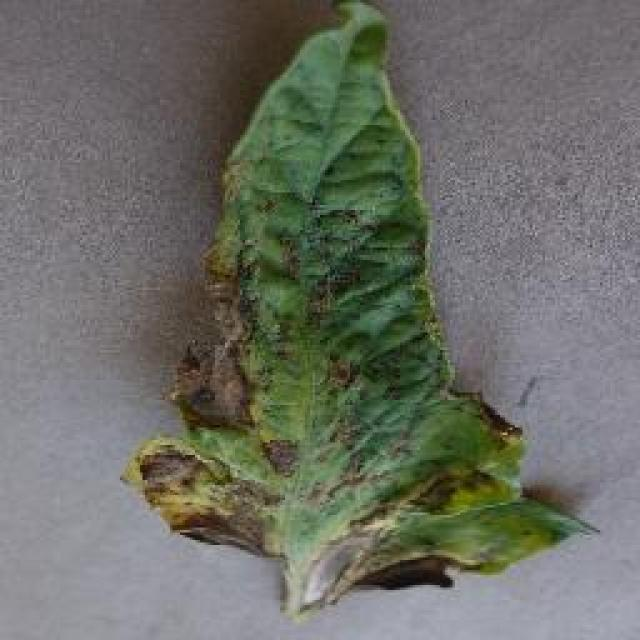Tomato Early blight leaf: (117, 1, 602, 618)
